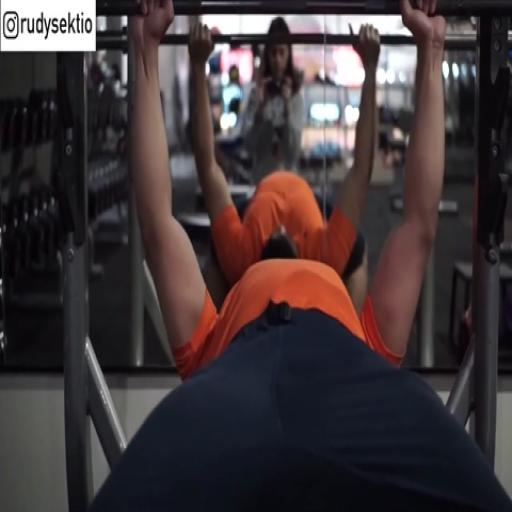exercise: (83, 0, 511, 511)
